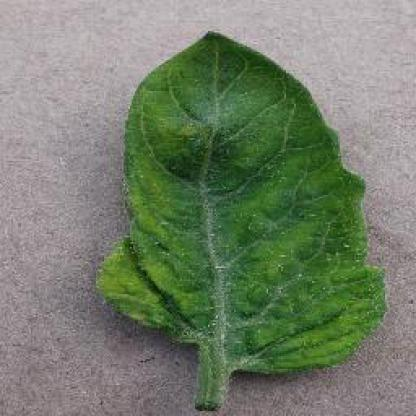bad leaf: (118, 30, 377, 415)
